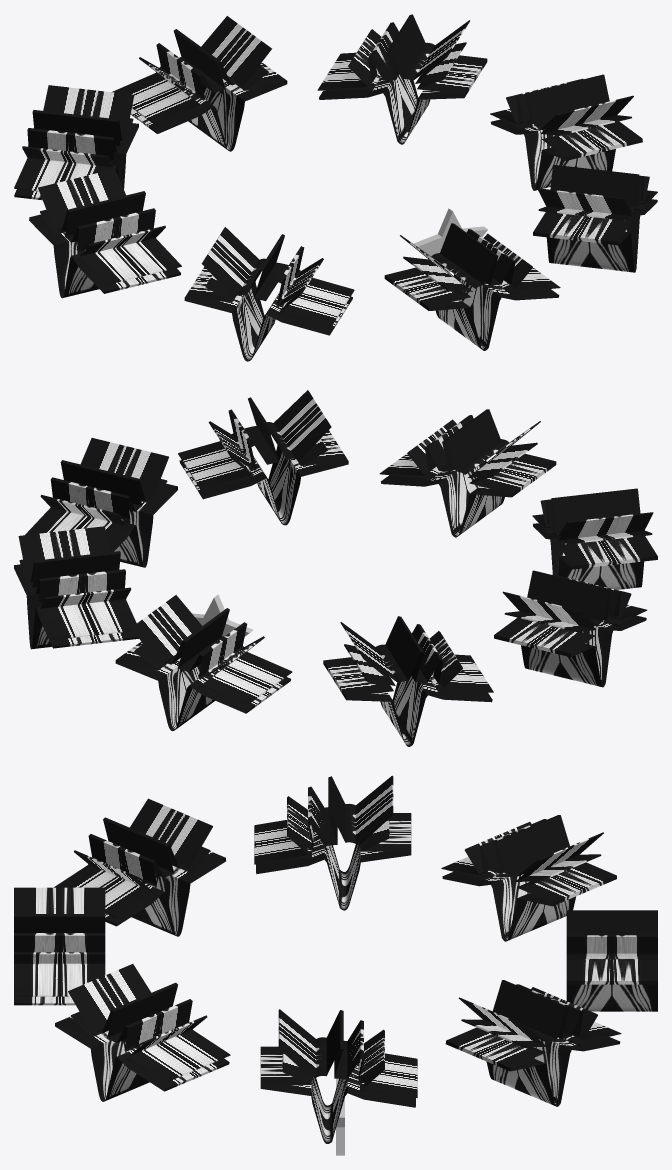
The picture shows the model from 3 angles, top to bottom: view 1: azimuth 30°, elevation 25°; view 2: azimuth 150°, elevation 25°; view 3: azimuth 270°, elevation 25°; orthographic projection. The views are drawn at different scales.
Visible parts, largest first — view 1: spirale.2, spirale.8, spirale.3, spirale.4, spirale.7, spirale.5, spirale.6, spirale.1, Cap_1; view 2: spirale.8, spirale.7, spirale.5, spirale.6, spirale.2, spirale.4, spirale.1, spirale.3; view 3: spirale.5, spirale.3, spirale.7, spirale.1, spirale.6, spirale.2, spirale.4, spirale.8.
Part boxes in pixels (x1,y1,x2,y2): spirale.2: (29,169,181,298); spirale.8: (112,16,287,151); spirale.3: (184,227,354,361); spirale.4: (384,223,560,350); spirale.7: (317,14,487,144); spirale.5: (533,165,657,272); spirale.6: (490,74,642,190); spirale.1: (14,85,138,200); Cap_1: (418,212,487,272); spirale.8: (115,595,292,731); spirale.7: (14,526,138,649); spirale.5: (178,390,348,525); spirale.6: (25,438,177,567); spirale.2: (494,570,647,687); spirale.4: (379,409,556,537); spirale.1: (323,616,493,746); spirale.3: (532,488,657,589); spirale.5: (55,964,230,1101); spirale.3: (54,798,225,936); spirale.7: (445,980,621,1106); spirale.1: (441,815,616,941); spirale.6: (260,1009,417,1143); spirale.2: (254,775,411,910); spirale.4: (14,887,105,1005); spirale.8: (566,910,657,1011).
Size of the model in its own units: 1438 by 429 by 1438.
2 materials, 1 textured.
